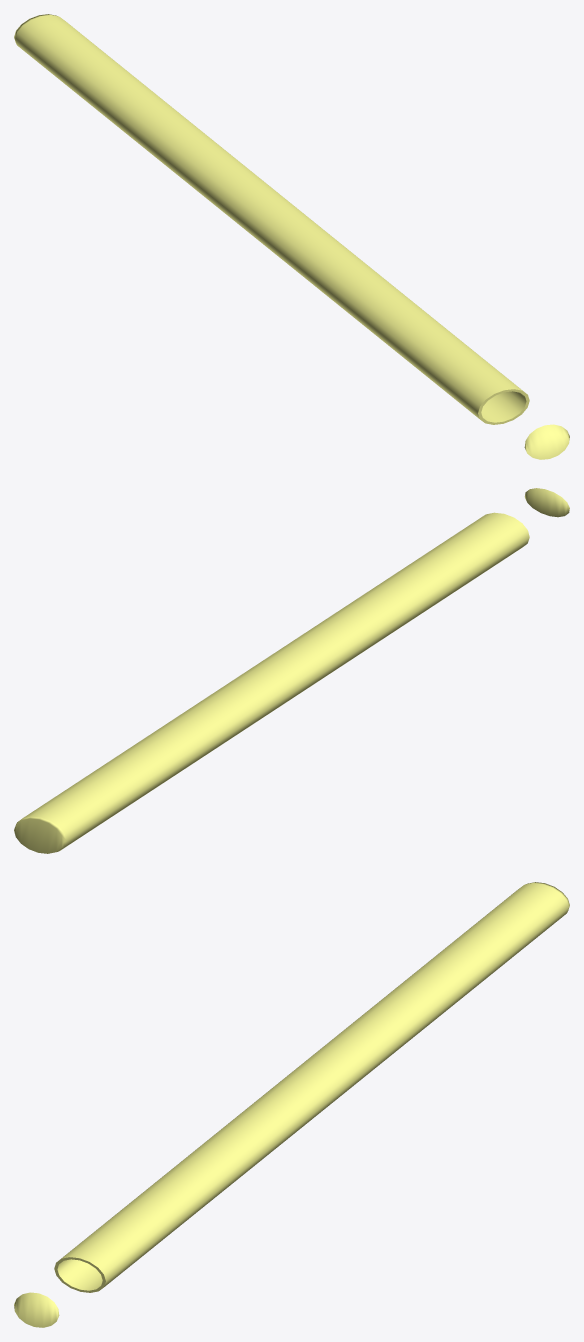
File: Ladle_2_0.obj
3 renders of one model, top to bottom at view 1: azimuth 30°, elevation 25°; view 2: azimuth 150°, elevation 25°; view 3: azimuth 330°, elevation 25°, orthographic.
Bounding box in the file's own units: 0.0123 × 0.0161 × 0.2102.
